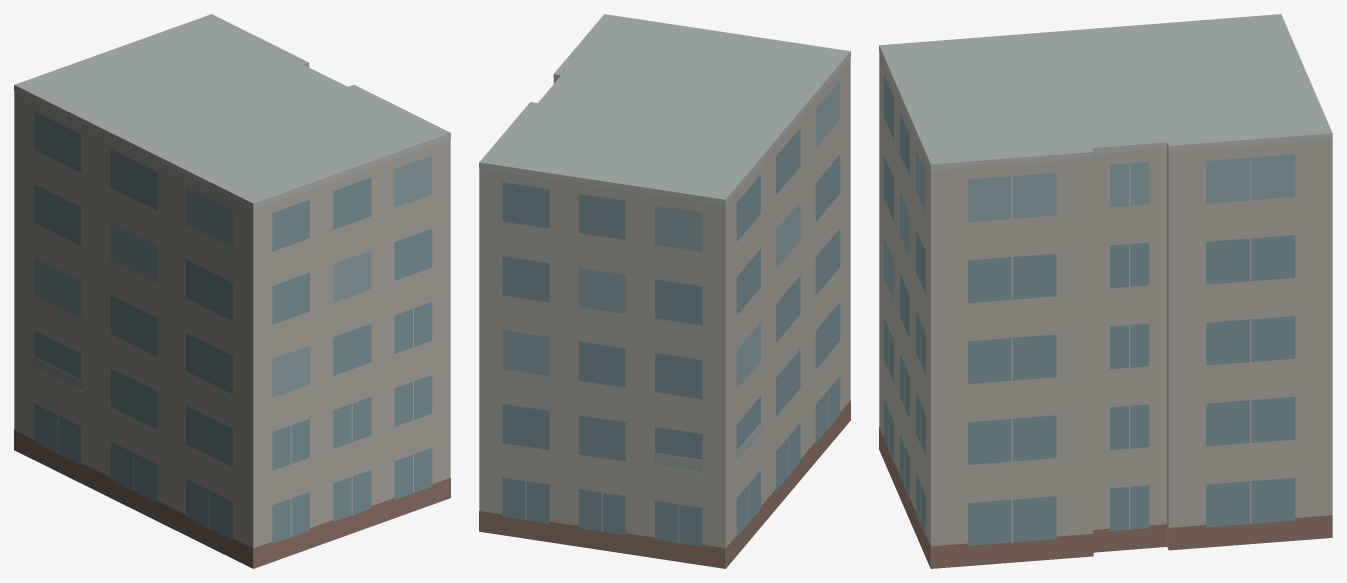
File: survey-upis-32922110.glb
3 views of the same model, side by side, from view 1: azimuth 30°, elevation 25°; view 2: azimuth 150°, elevation 25°; view 3: azimuth 270°, elevation 25° (orthographic). The views are drawn at different scales.
Visible parts, largest first — view 1: survey-upis-32922110.tmp; view 2: survey-upis-32922110.tmp; view 3: survey-upis-32922110.tmp.
Boxes of the visible parts, bbox=[...] form: survey-upis-32922110.tmp: bbox=[14, 14, 450, 568]; survey-upis-32922110.tmp: bbox=[479, 14, 850, 568]; survey-upis-32922110.tmp: bbox=[879, 14, 1332, 568].
Size of the model in its own units: 12.21 by 15.3 by 15.56.
